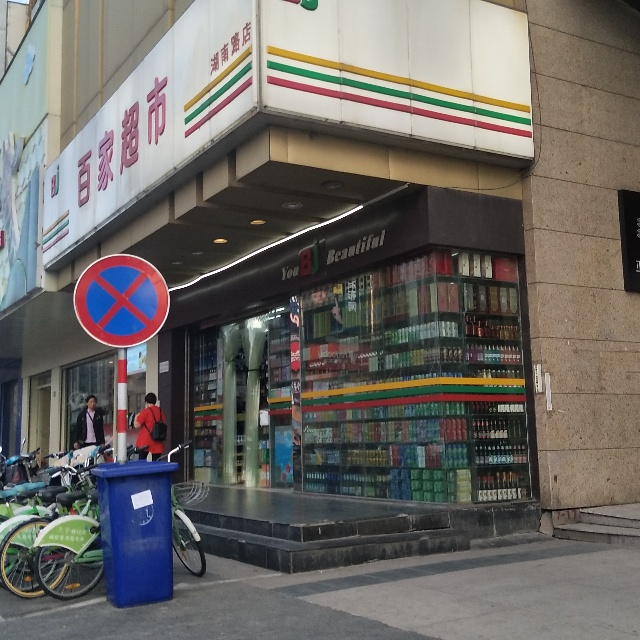stop: (76, 256, 165, 340)
